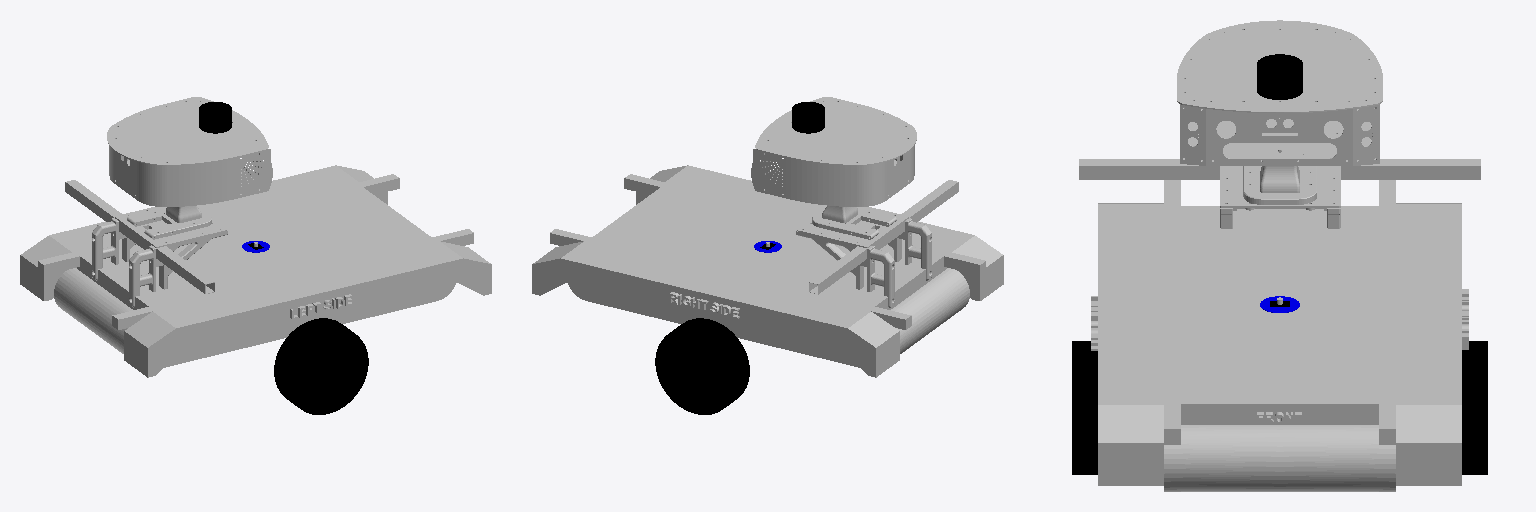
robot.urdf — plutarco:
<?xml version="1.0"?>

<robot name="plutarco">

	<!-- Base link position - central position of body top surface, electronic device level -->
	<link name="base_link">
		<visual>
			<origin rpy="0.0 0.0 0.0" xyz="0.0 0.0 0.0"/>
			<geometry>
				<cylinder length="0.001" radius="0.03" />
			</geometry>
			<material name="blue">
				<color rgba="0 0 1 0.5"/>
			</material>
		</visual>
	</link>

	<link name="body_main">
        <visual>
            <origin xyz="0 0 0" rpy="0 0 0"/>
            <geometry>
                <mesh filename="package://plutarco_description/urdf/models/Body.stl" scale="0.001 0.001 0.001" />
            </geometry>
            <material name="light_grey">
                <color rgba="0.8 0.8 0.8 0.8"/>
            </material>
        </visual>
    </link>

	<joint name="body_main_joint" type="fixed">
		<parent link="base_link"/>
		<child link="body_main"/>
		<!--  <origin rpy="1.5708 0.0 1.5708" xyz="0.0 0.0 0.0"/>  -->
		<origin rpy="1.5708 0.0 1.5708" xyz="0.0 0.0 0.0"/> 
	</joint>

  
	<link name="plutarco_head">
        <visual>
            <origin xyz="0 0 0" rpy="0 0 0"/>
            <geometry>
                <mesh filename="package://plutarco_description/urdf/models/Plutarco_Head.stl" scale="0.001 0.001 0.001" />
            </geometry>
            <material name="light_grey">
                <color rgba="0.8 0.8 0.8 0.8"/>
            </material>
        </visual>
    </link>

	<joint name="plutarco_head_joint" type="fixed">
		<parent link="body_main"/>
		<child link="plutarco_head"/>
		<origin rpy="0.0 0.0 0.0" xyz="0.0 0.23 -0.05"/>
	</joint>

	<!-- Left wheel link -->
	<link name="left_wheel">
		<visual>
			<geometry>
				<cylinder length="0.06" radius="0.1"/>
			</geometry>
			<material name="black">
				<color rgba="0 0 0 1"/>
			</material>
		</visual>
		<collision>
		  <geometry>
		<cylinder length="0.06" radius="0.1"/>
		  </geometry>
		</collision>
	</link>

	<!-- Joint configuration left joint -->
	<joint name="left_joint" type="continuous">
		<axis xyz="0 0 -1"/>
		<parent link="base_link"/>
		<child link="left_wheel"/>
		<origin rpy="1.57075 0.0 0.0" xyz="0 0.28 -0.17"/>
		<limit effort="2" velocity="10"/>
		<joint_properties damping="0.02" friction="0.04"/>
	</joint>

	<!-- Transmission configuration left joint -->
	<transmission name="$left_trans" type="SimpleTransmission">
		<type>transmission_interface/SimpleTransmission</type>
		<actuator name="$left_motor">
			<mechanicalReduction>1</mechanicalReduction>
		</actuator>
		<joint name="left_joint">
			<hardwareInterface>VelocityJointInterface</hardwareInterface>
		</joint>
	</transmission>

	<!-- Right wheel link -->
	<link name="right_wheel">
		<visual>
			<geometry>
				<cylinder length="0.06" radius="0.1"/>
			</geometry>
			<material name="black">
				<color rgba="0 0 0 1"/>
			</material>
		</visual>
		<collision>
		  <geometry>
		<cylinder length="0.06" radius="0.1"/>
		  </geometry>
		</collision>
	</link>

	<!-- Joint configuration left joint -->
	<joint name="right_joint" type="continuous">
		<axis xyz="0 0 -1"/>
		<parent link="base_link"/>
		<child link="right_wheel"/>
		<origin rpy="1.57075 0.0 0.0" xyz="0 -0.28 -0.17"/>
		<limit effort="2" velocity="10"/>
		<joint_properties damping="0.02" friction="0.04"/>
	</joint>

	<!-- Transmission configuration right joint -->
	<transmission name="$right_trans" type="SimpleTransmission">
		<type>transmission_interface/SimpleTransmission</type>
		<actuator name="$right_motor">
			<mechanicalReduction>1</mechanicalReduction>
		</actuator>
		<joint name="right_joint">
			<hardwareInterface>VelocityJointInterface</hardwareInterface>
		</joint>
	</transmission>

<!-- imu tf -->
	<link name="imu_link">
		<visual>
			<geometry>
				<box size="0.02 0.03 0.005" />
			</geometry>
			<material name="black">
				<color rgba="0 0 0 1"/>
			</material>
		</visual>
		<collision>
			<geometry>
				<box size="0.02 0.03 0.005" />
			</geometry>
		</collision>
	</link>

	<joint name="imu_joint" type="fixed">
		<parent link="base_link"/>
		<child link="imu_link"/>
		<origin rpy="0.0 0.0 0.0" xyz="0.0 0.0 0.0"/>
	</joint>
<!-- -->

<!-- YD lidar -->
<!--
	<link name="ydlidar_link">
	<visual>
		<geometry>
			<cylinder length="0.06" radius="0.035" />
		</geometry>
		<origin xyz="0 0 0.03" />
		<material name="kkk">
			<color rgba="0 0 0 1" />
		</material>
	</visual>
	</link>
	<joint name="base_link_to_base_laser_yd" type="fixed">
		<parent link="base_link"/>
		<child link="ydlidar_link"/>
		<origin xyz="-0.07 0.12 0.38" rpy="0 0 -1.5708" />
	</joint>
	 -->	


<!--RP lidar -->
	<link name="rplidar_link">
	<visual>
		<geometry>
			<cylinder length="0.06" radius="0.035" />
		</geometry>
		<origin xyz="0 0 0" />
		<material name="kkk">
			<color rgba="0 0 0 1" />
		</material>
	</visual>
	</link>
	<joint name="base_link_to_base_laser_rp" type="fixed">
		<parent link="base_link"/>
		<child link="rplidar_link"/>
		<!-- <origin xyz="-0.07 0 0.35" rpy="0 0 -1.5708" /> --> <!-- Ruota di -90°, -1,5708 rad -->
		<origin xyz="-0.10 0.00 0.32" rpy="0 0 3.14159" />
	</joint>	
</robot>

--- Render facts (derived) ---
Views: 3 orthographic renders of the robot side by side, from view 1: azimuth 30°, elevation 25°; view 2: azimuth 150°, elevation 25°; view 3: azimuth 270°, elevation 25°.
Model plutarco with 7 links and 6 joints (2 continuous, 4 fixed), rooted at base_link, posed all joints at 0.
Visible links, largest first — view 1: body_main, plutarco_head, right_wheel, rplidar_link; view 2: body_main, plutarco_head, left_wheel, rplidar_link; view 3: body_main, plutarco_head, left_wheel, right_wheel, rplidar_link.
Link boxes in pixels (x1,y1,x2,y2): body_main: (20, 165, 491, 377); plutarco_head: (65, 97, 272, 307); right_wheel: (274, 318, 368, 414); rplidar_link: (199, 102, 231, 133); body_main: (532, 165, 1003, 377); plutarco_head: (751, 97, 958, 307); left_wheel: (655, 318, 749, 414); rplidar_link: (792, 102, 824, 133); body_main: (1091, 180, 1468, 491); plutarco_head: (1079, 20, 1480, 228); left_wheel: (1462, 341, 1487, 474); right_wheel: (1072, 341, 1097, 474); rplidar_link: (1257, 54, 1302, 99).
Bounding box of the posed robot: 0.88 × 0.62 × 0.62 m (x, y, z).
2 mesh visuals loaded from 2 distinct referenced files (2 binary STL).
